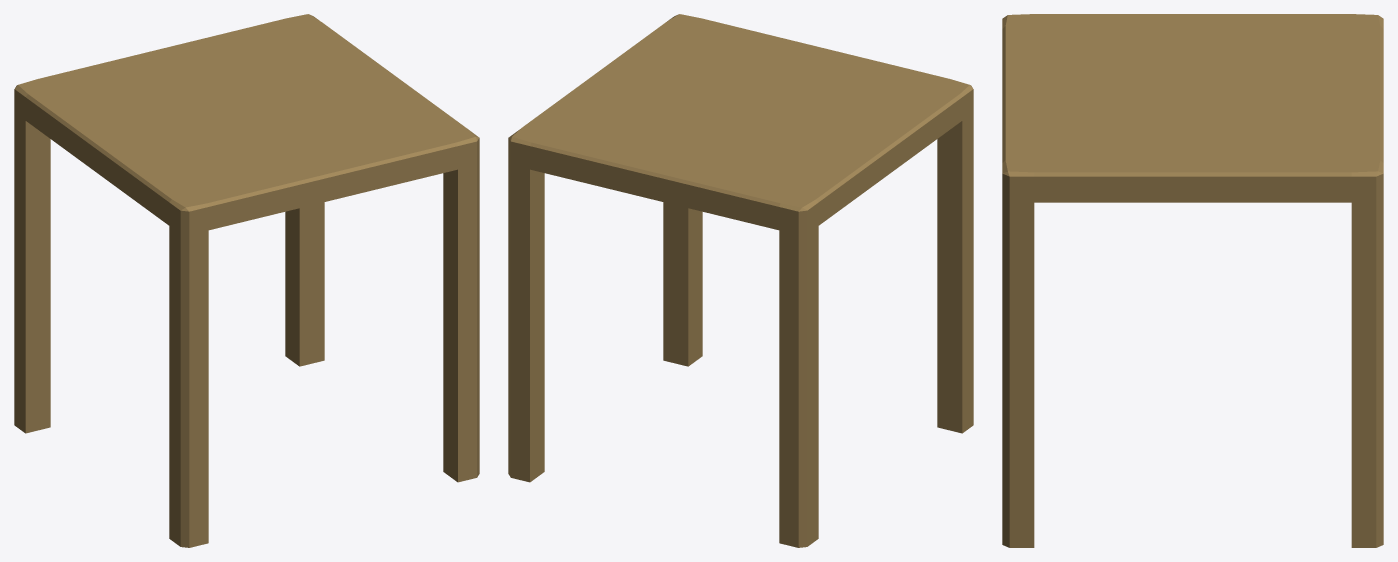
File: Small Shelf.fbx
3 views of the same model, side by side, from view 1: azimuth 30°, elevation 25°; view 2: azimuth 150°, elevation 25°; view 3: azimuth 270°, elevation 25° (orthographic). The views are drawn at different scales.
Parts seen in each view (by area): view 1: Small Shelf; view 2: Small Shelf; view 3: Small Shelf.
Part boxes in pixels (box(x1,y1,x2,y2)): Small Shelf: box(14, 14, 479, 547); Small Shelf: box(508, 14, 973, 547); Small Shelf: box(1002, 14, 1383, 547).
Size of the model in its own units: 60.96 by 66.04 by 60.96.
